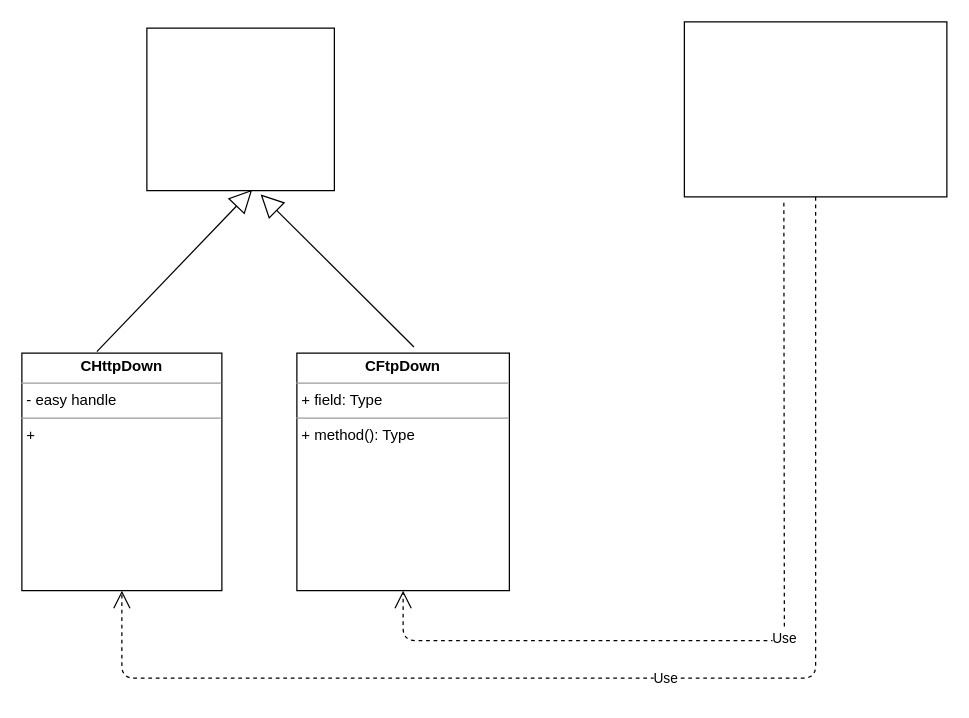
The diagram is 969 pixels wide and 718 high, and some of its shapes have lost their labels. The shapes that lost their labels are listed below. From the top down, each one's centre as x and y in pixels, then its label:
the point at 240,109: CDownloadPub -- m_strUrl : string + DownLoad()
the point at 815,109: <<接口>> DownFactory + CreateObject() : CDownloadPub*
